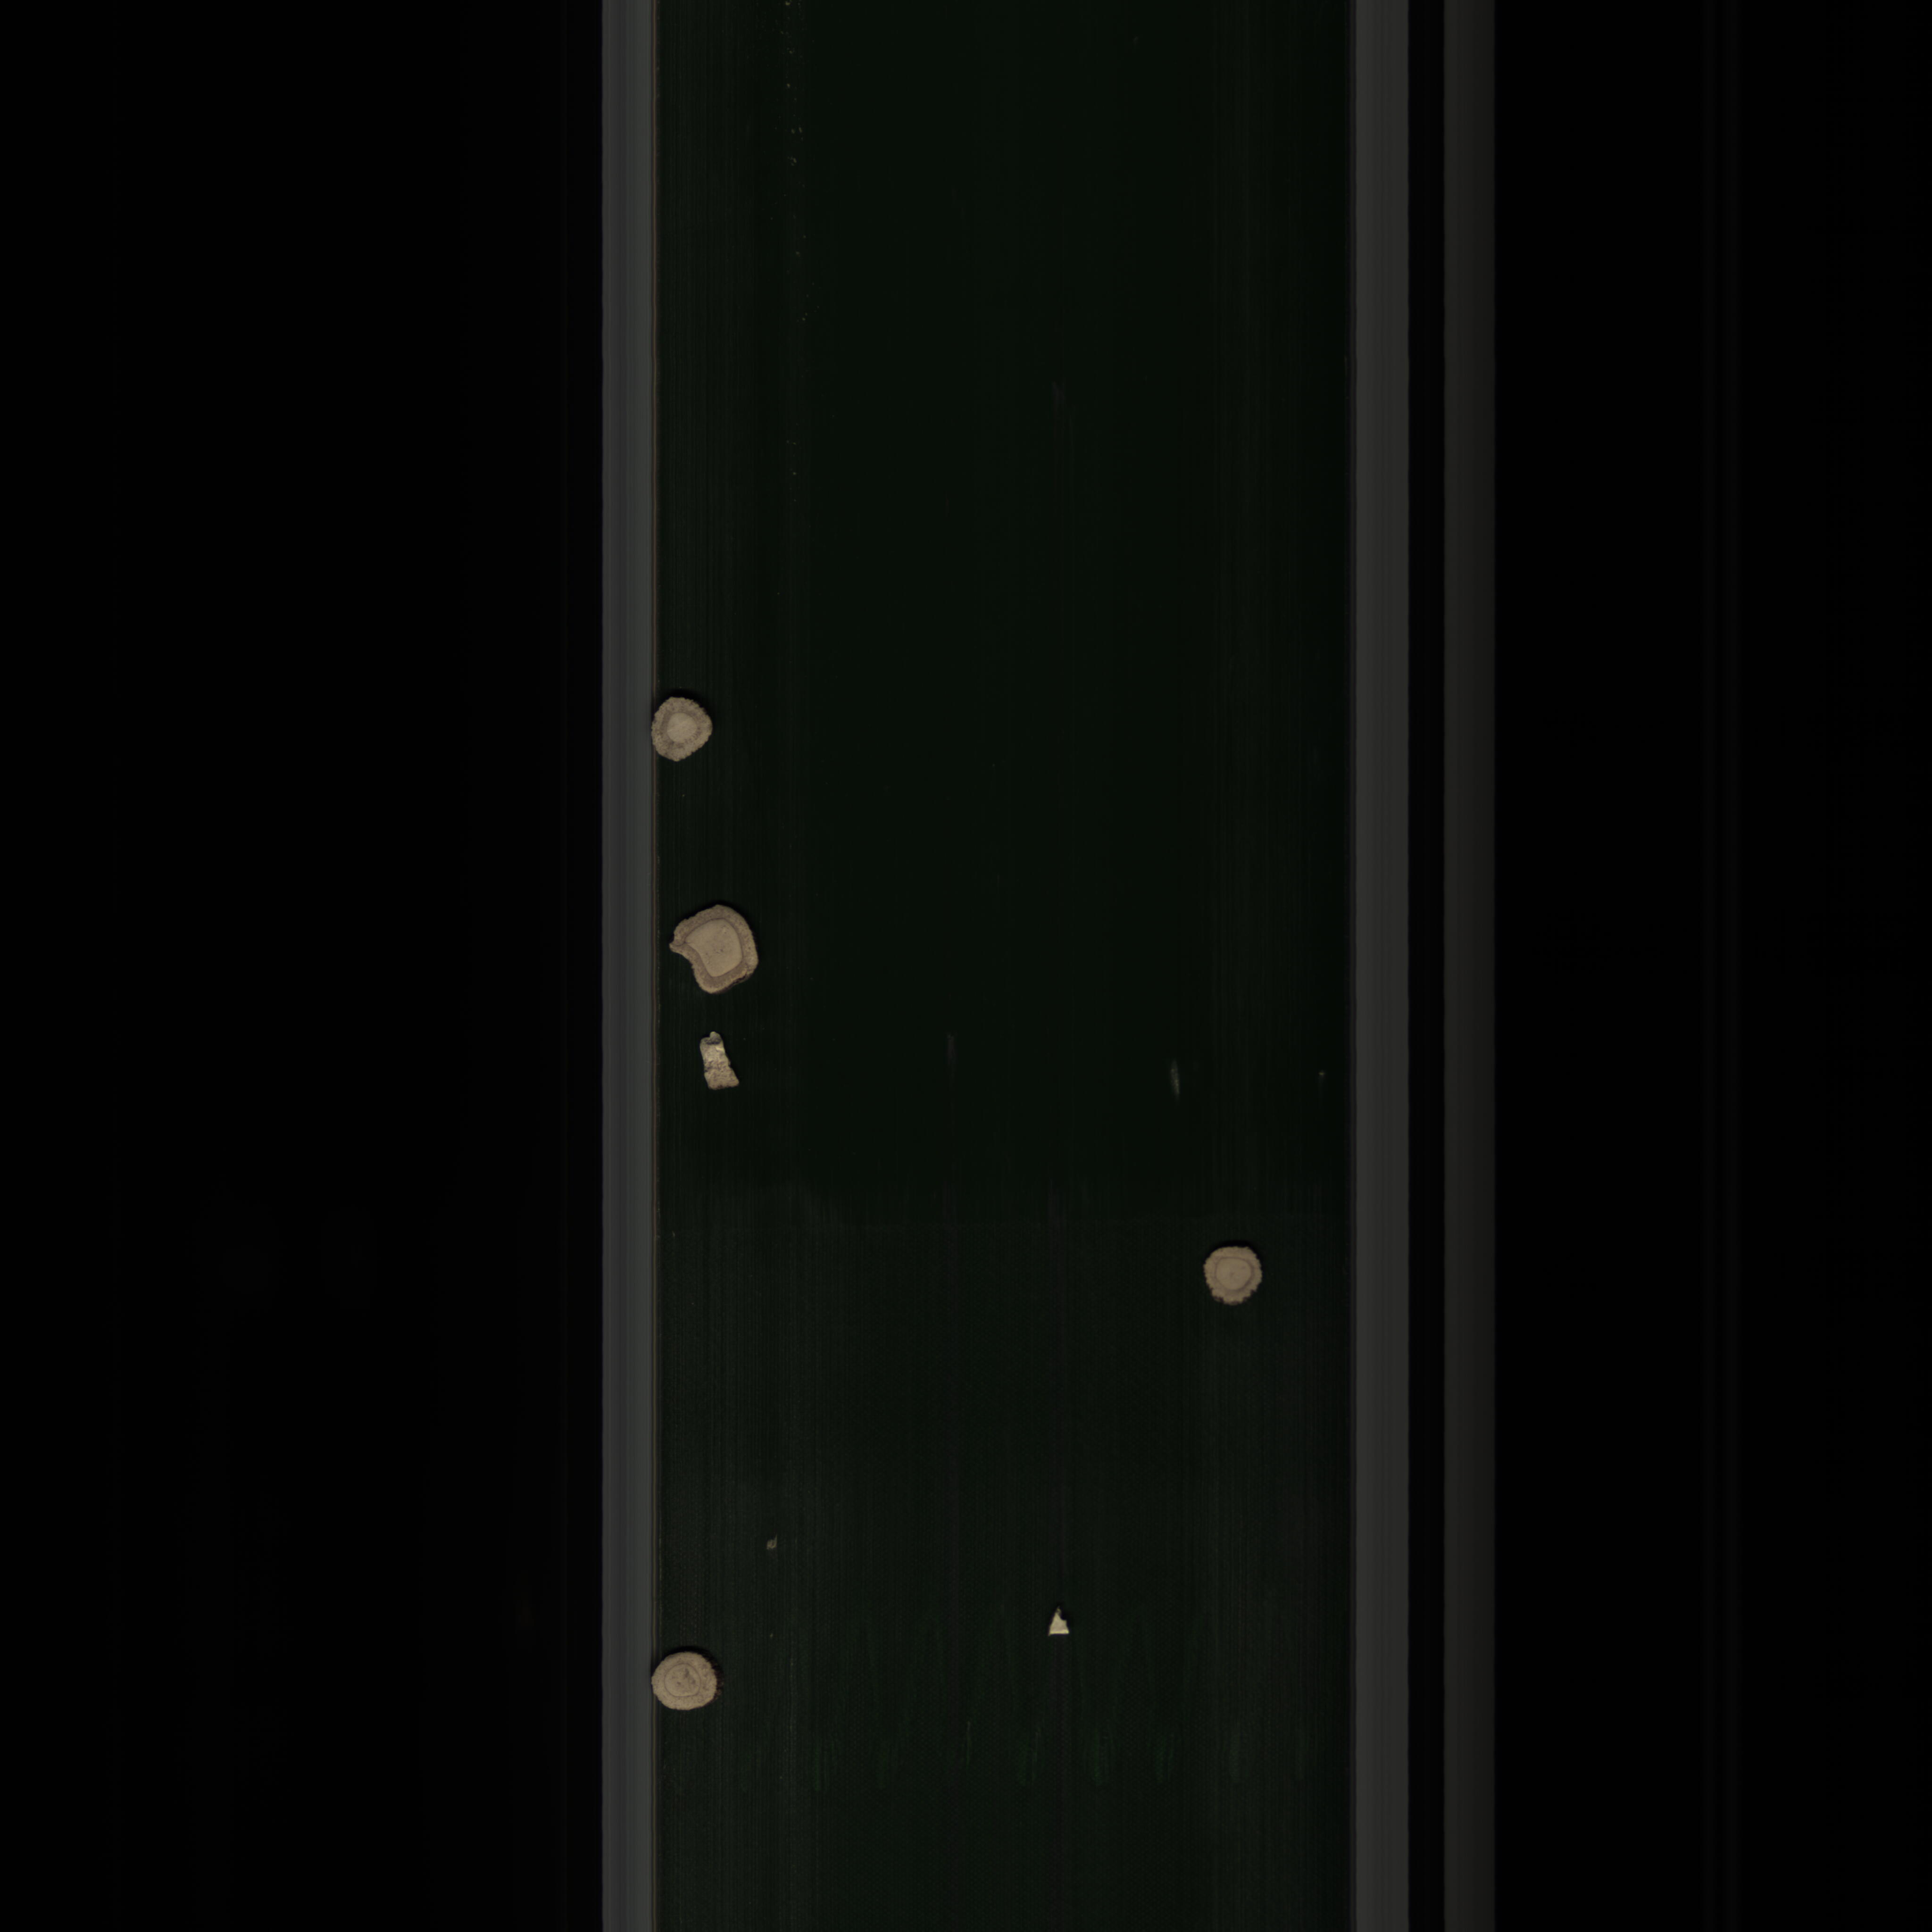bark: (1037, 1603, 1086, 1645)
debris: (686, 1026, 745, 1099)
distortion: (665, 901, 766, 998)
